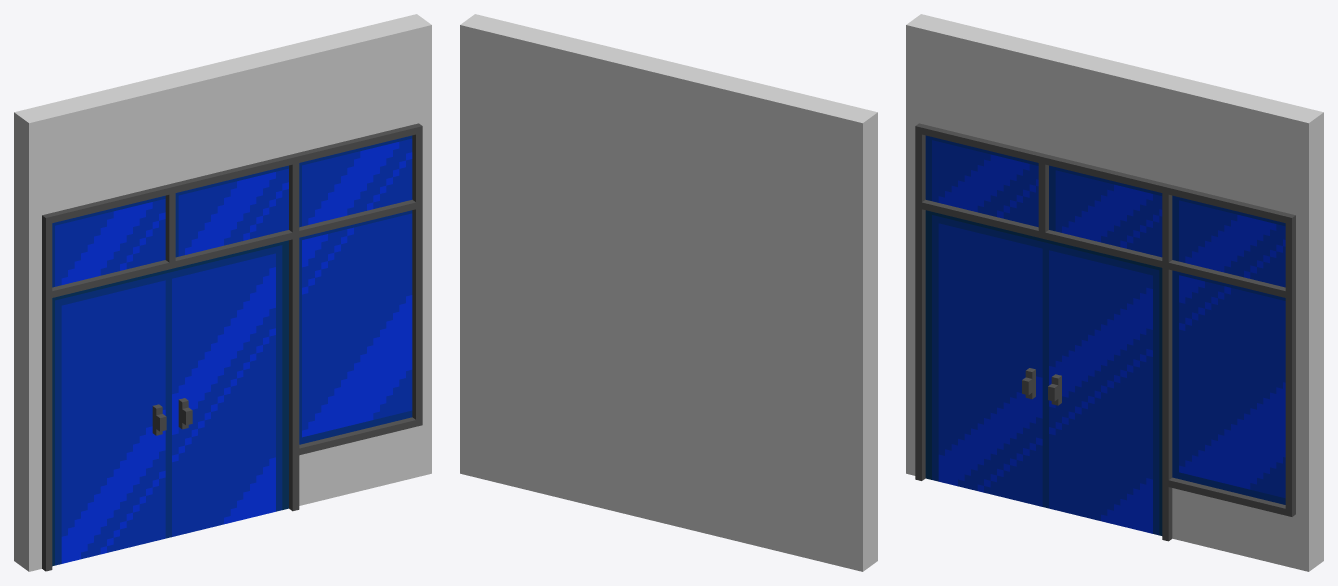
File: whiteThree.glb
The picture shows the model from 3 angles, left to right: view 1: azimuth 30°, elevation 25°; view 2: azimuth 150°, elevation 25°; view 3: azimuth 330°, elevation 25°; orthographic projection.
Parts seen in each view (by area): view 1: ObjObject; view 2: ObjObject; view 3: ObjObject.
Part boxes in pixels (x1,y1,x2,y2): ObjObject: (14, 14, 431, 571); ObjObject: (460, 14, 877, 571); ObjObject: (906, 14, 1323, 571).
Bounding box in the file's own units: 6.2 × 6.6 × 0.6.
1 material, 1 textured.
